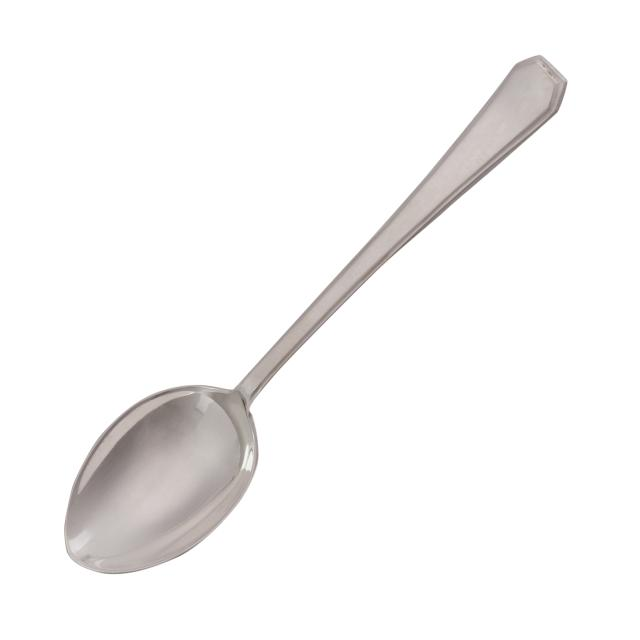spoon: (45, 46, 580, 590)
